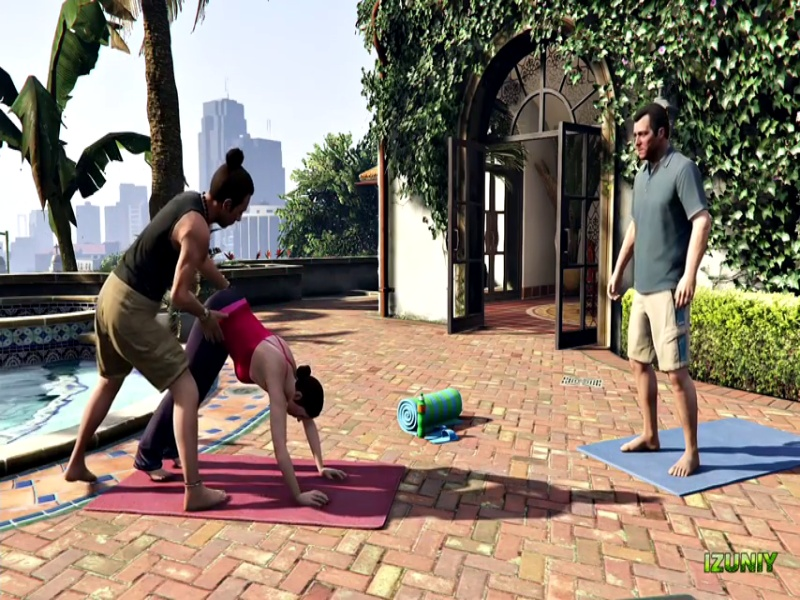human: (611, 105, 706, 466)
